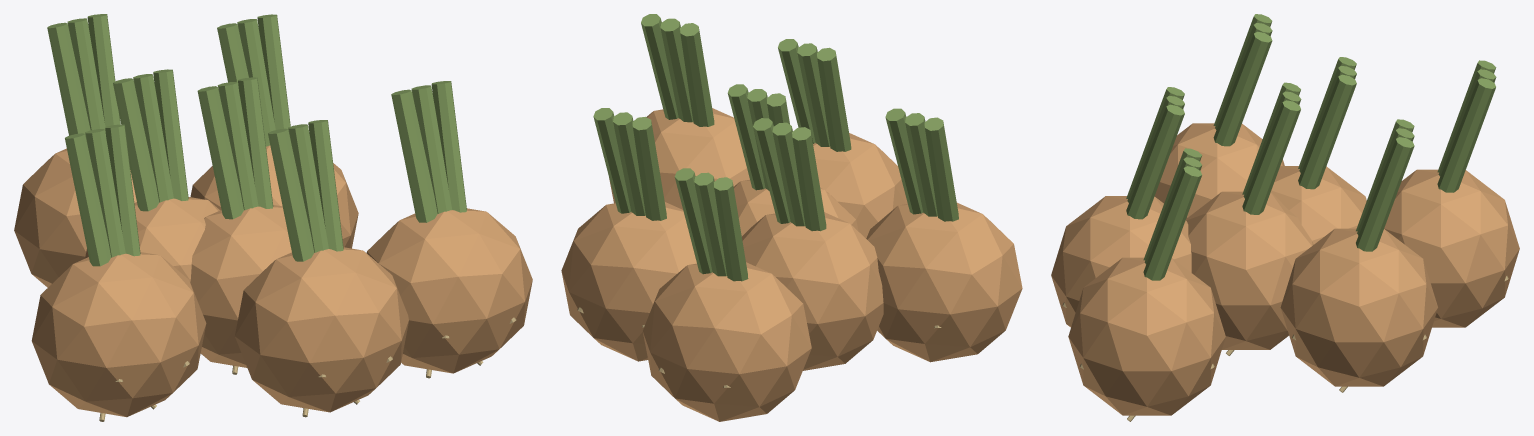
File: GF-004.harvested-bulbs.glb
3 views of the same model, side by side, from view 1: azimuth 30°, elevation 25°; view 2: azimuth 150°, elevation 25°; view 3: azimuth 270°, elevation 25° (orthographic). The views are drawn at different scales.
Visible parts, largest first — view 1: GF-004.harvested-bulbs GF-004.harvested-bulbs batched; view 2: GF-004.harvested-bulbs GF-004.harvested-bulbs batched; view 3: GF-004.harvested-bulbs GF-004.harvested-bulbs batched.
Part boxes in pixels (left/top/right/bottom): GF-004.harvested-bulbs GF-004.harvested-bulbs batched: left=14, top=14, right=532, bottom=421; GF-004.harvested-bulbs GF-004.harvested-bulbs batched: left=561, top=14, right=1022, bottom=421; GF-004.harvested-bulbs GF-004.harvested-bulbs batched: left=1051, top=14, right=1519, bottom=421.
Size of the model in its own units: 0.2629 by 0.1517 by 0.2558.
